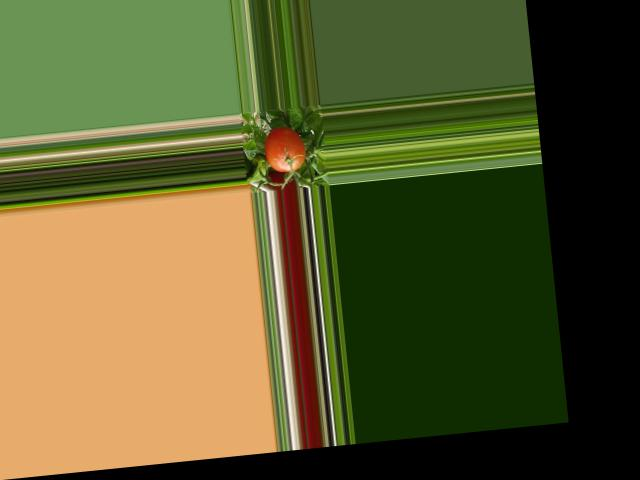tomato: (263, 126, 307, 174)
